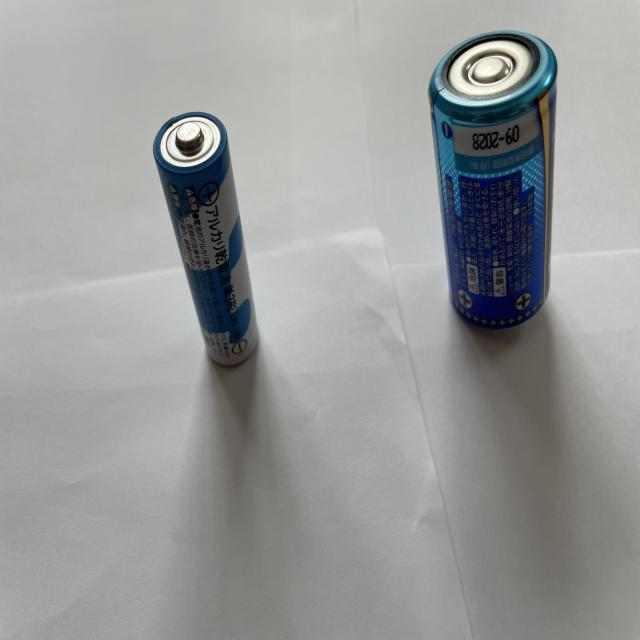hazardous waste: (423, 31, 557, 326), (152, 110, 259, 369)
